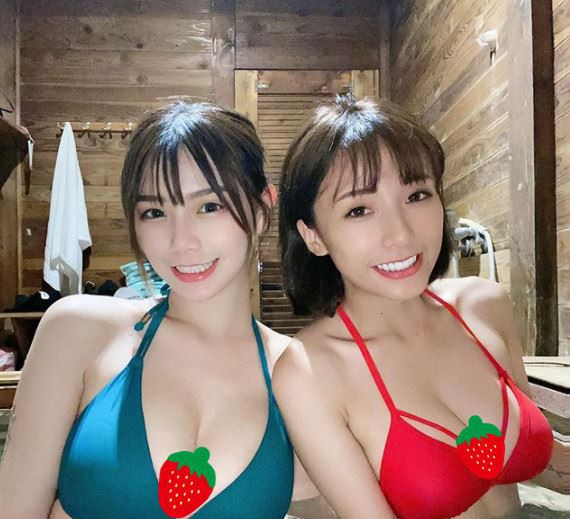people: (277, 112, 518, 519), (81, 101, 295, 519)
